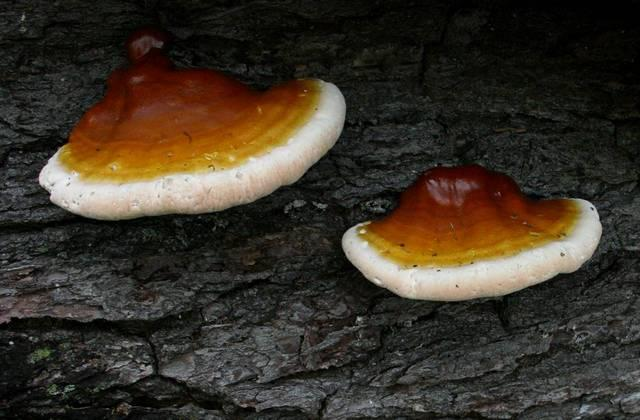poisonous_mushroom: (37, 26, 347, 221), (340, 161, 603, 302)
